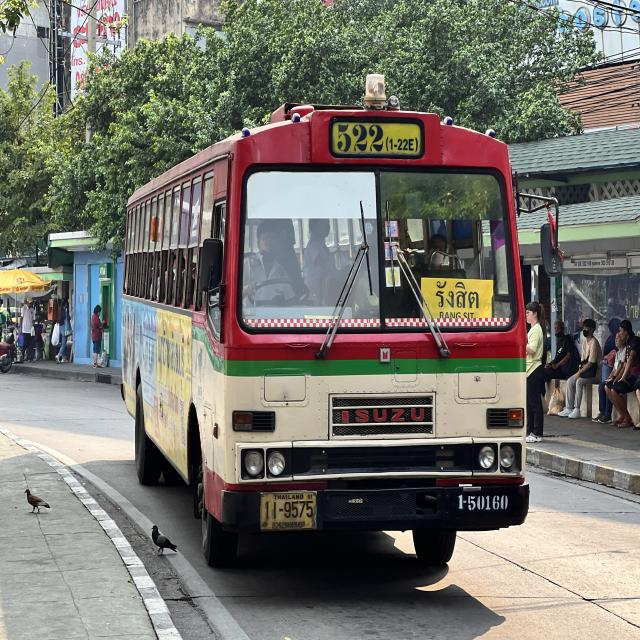BMTA-bus: (111, 68, 544, 585)
Bus-Line-Number: (328, 113, 426, 160)
Destination-Sign-Normal-Expressway: (421, 278, 494, 325)
